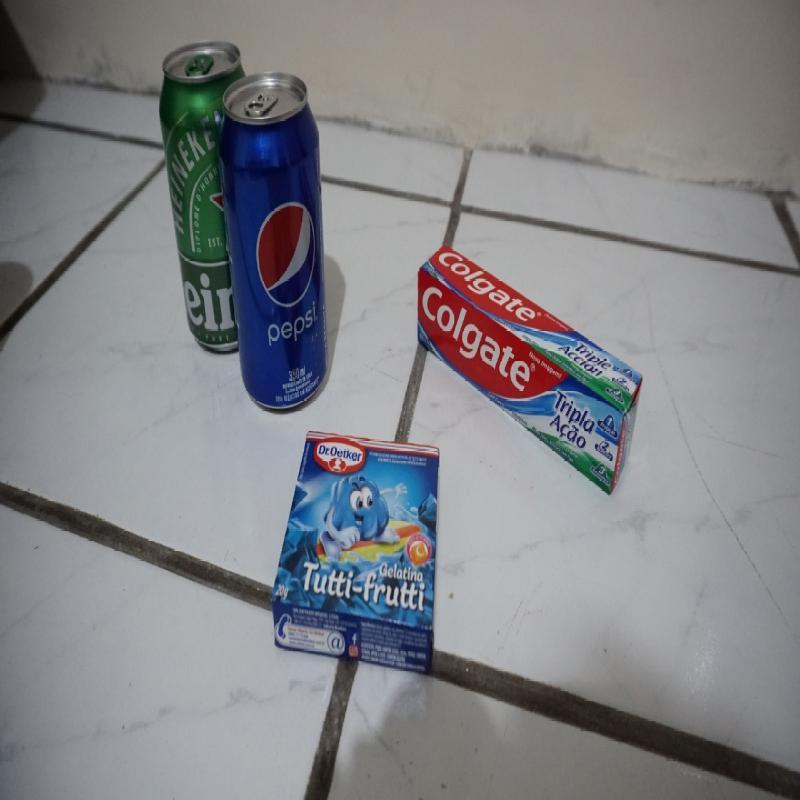Beer can: (159, 37, 222, 372)
Gelatine: (271, 429, 440, 680)
Soda can: (221, 72, 330, 407)
Toothpaste: (416, 243, 643, 424)
